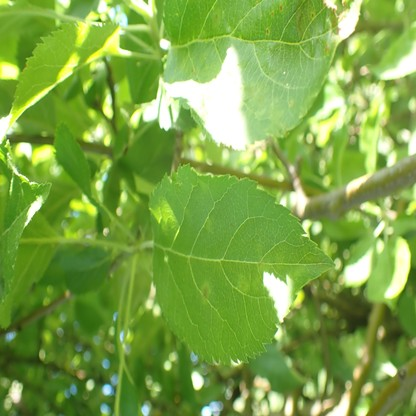scab: (243, 83, 268, 105), (238, 274, 261, 294), (201, 281, 210, 302), (211, 8, 220, 28), (297, 8, 302, 34), (271, 109, 283, 119), (191, 66, 197, 76), (203, 67, 210, 73)
